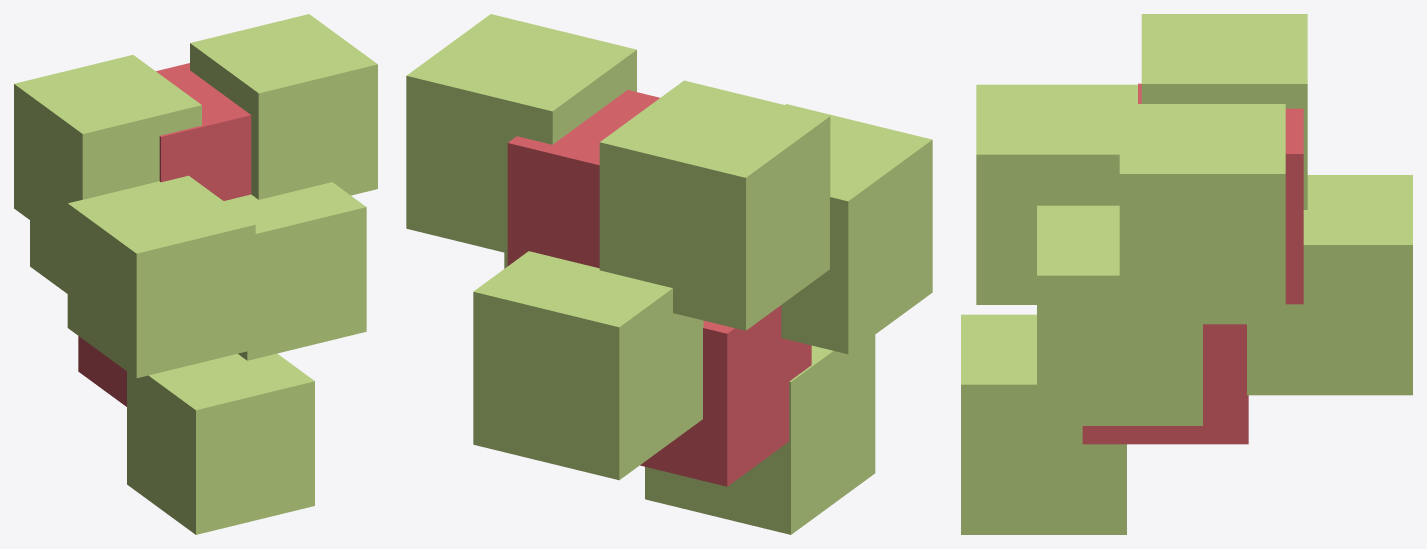
The picture shows the model from 3 angles, left to right: view 1: azimuth 30°, elevation 25°; view 2: azimuth 150°, elevation 25°; view 3: azimuth 270°, elevation 25°; orthographic projection. The views are drawn at different scales.
Visible parts, largest first — view 1: Cube.002, Cube, Cube.006, Cube.004, Cube.005, Cube.007, Cube.001, Cube.003; view 2: Cube.004, Cube.003, Cube.006, Cube.002, Cube, Cube.001, Cube.007; view 3: Cube.006, Cube.003, Cube.005, Cube, Cube.002, Cube.004, Cube.001, Cube.007.
Part boxes in pixels (left/top/right/bottom): Cube.002: left=67, top=175, right=255, bottom=378; Cube: left=127, top=353, right=314, bottom=534; Cube.006: left=190, top=14, right=377, bottom=199; Cube.004: left=14, top=55, right=201, bottom=247; Cube.005: left=224, top=182, right=366, bottom=360; Cube.007: left=156, top=63, right=251, bottom=200; Cube.001: left=78, top=336, right=126, bottom=406; Cube.003: left=30, top=220, right=67, bottom=293; Cube.004: left=599, top=80, right=830, bottom=330; Cube.003: left=473, top=251, right=703, bottom=480; Cube.006: left=406, top=14, right=636, bottom=253; Cube.002: left=781, top=104, right=932, bottom=354; Cube: left=645, top=335, right=875, bottom=534; Cube.001: left=640, top=305, right=811, bottom=486; Cube.007: left=507, top=90, right=659, bottom=268; Cube.006: left=1119, top=104, right=1285, bottom=324; Cube.003: left=1247, top=175, right=1412, bottom=395; Cube.005: left=1037, top=205, right=1202, bottom=425; Cube: left=961, top=314, right=1126, bottom=534; Cube.002: left=976, top=84, right=1137, bottom=304; Cube.004: left=1141, top=14, right=1307, bottom=209; Cube.001: left=1082, top=324, right=1248, bottom=444; Cube.007: left=1138, top=83, right=1303, bottom=304.
Bounding box in the file's own units: 5.05 × 5.81 × 5.45.
